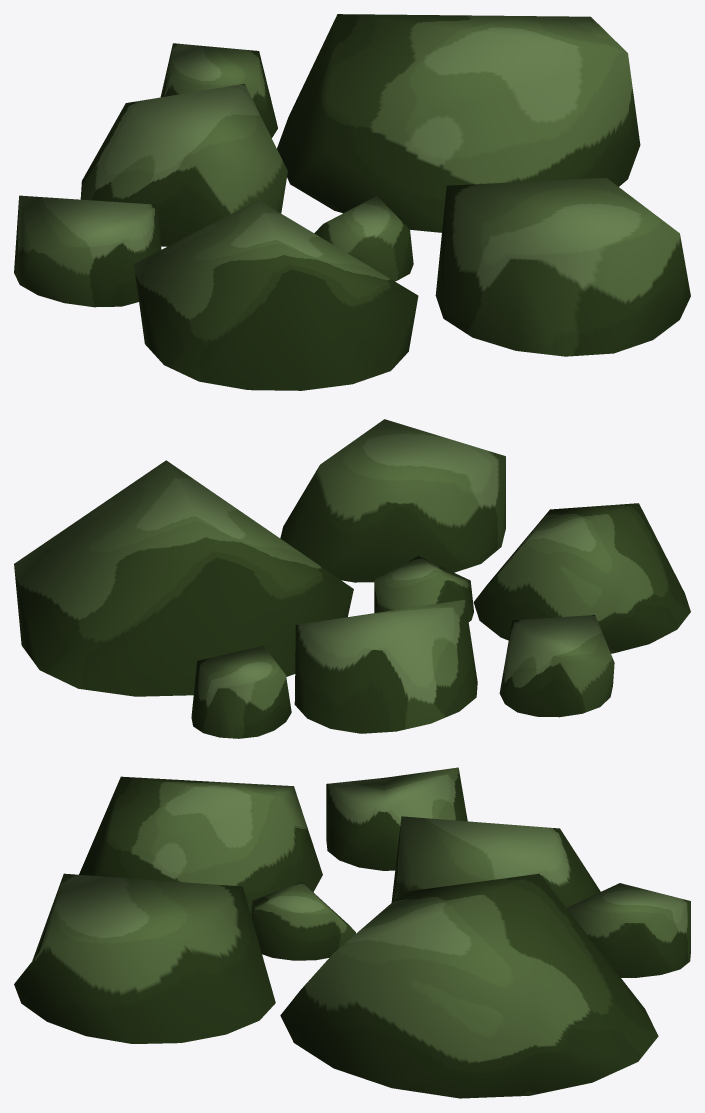
The model's file is Rock 3x 3 7_preview_3DS_simplified.glb.
The picture shows the model from 3 angles, top to bottom: view 1: azimuth 30°, elevation 25°; view 2: azimuth 150°, elevation 25°; view 3: azimuth 270°, elevation 25°; orthographic projection. The views are drawn at different scales.
Parts seen in each view (by area): view 1: Marine Park Empire model; view 2: Marine Park Empire model; view 3: Marine Park Empire model.
Boxes of the visible parts, x1=… form: Marine Park Empire model: x1=14, y1=14, x2=690, y2=390; Marine Park Empire model: x1=14, y1=419, x2=690, y2=738; Marine Park Empire model: x1=14, y1=767, x2=690, y2=1098.
Bounding box in the file's own units: 93.75 × 17.72 × 94.2.
Materials: 1 (1 with a texture image).
